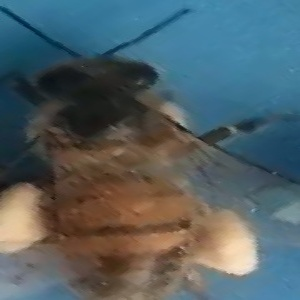bee: (7, 9, 268, 300)
